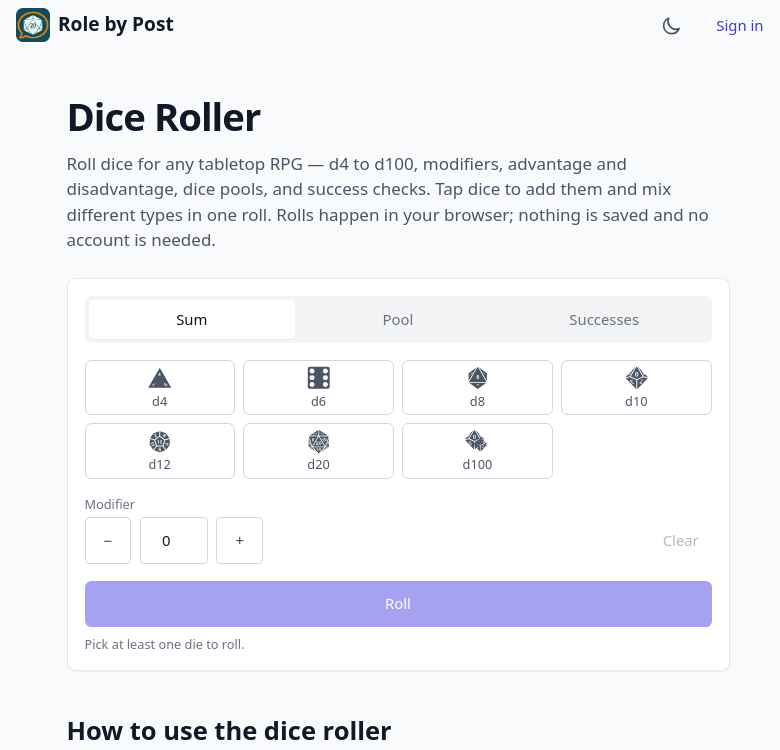
DiceRollerPage › uses the successes mode to count face results
Click the button "d20" at {"x": 319, "y": 451}, box top-left (243, 423), bottom-right (394, 478)
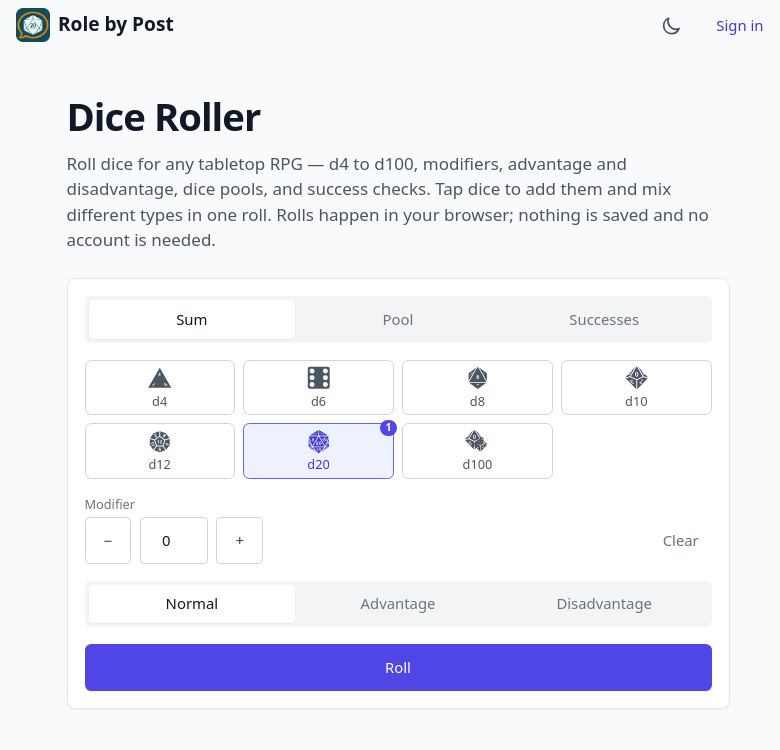
Click the button "Successes" at {"x": 604, "y": 319}, box top-left (501, 300), bottom-right (707, 339)
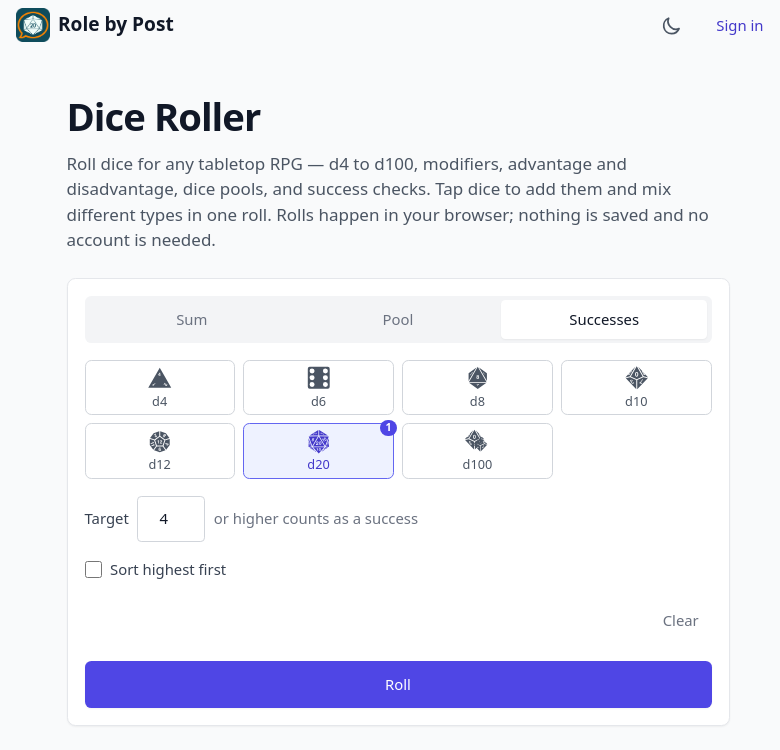
Click the button "Roll" at {"x": 398, "y": 685}, box top-left (84, 661), bottom-right (712, 708)
(page scrolled)
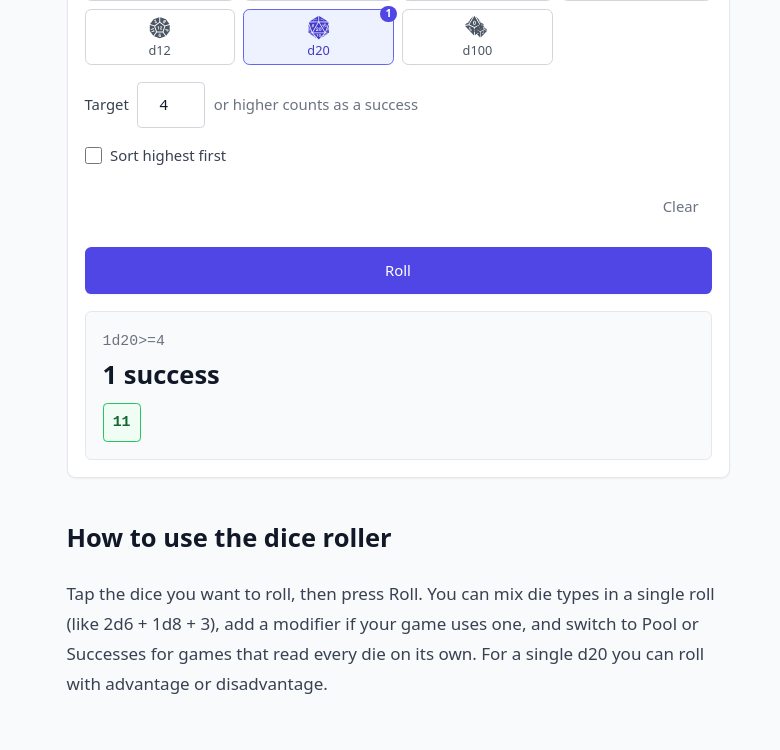
Check: the text "1d20>=4" is shown, box top-left (102, 333), bottom-right (165, 349)
Check: the text "1 success" is shown, box top-left (102, 356), bottom-right (220, 390)
